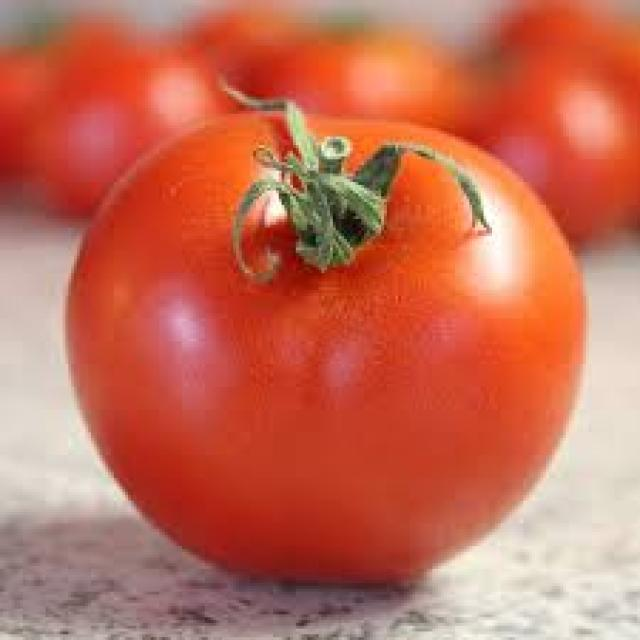Fresh_tomato: (63, 126, 561, 556)
